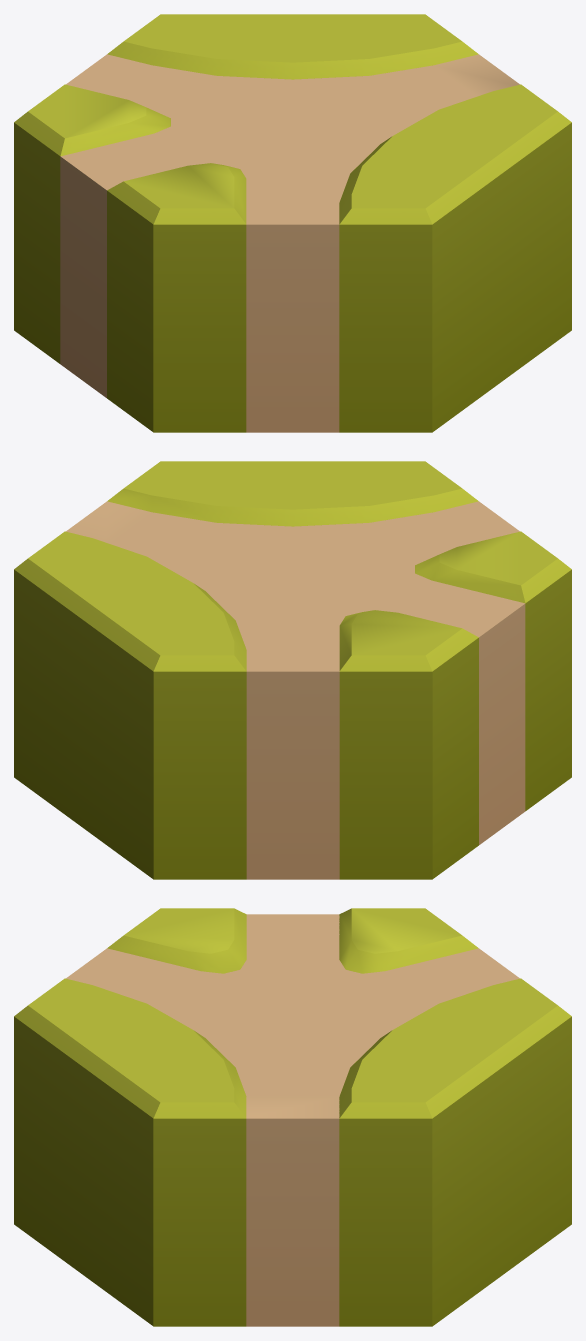
The model's file is hex_road_H.gltf.
The picture shows the model from 3 angles, top to bottom: view 1: azimuth 30°, elevation 25°; view 2: azimuth 150°, elevation 25°; view 3: azimuth 270°, elevation 25°; orthographic projection.
Parts seen in each view (by area): view 1: hex_road_H; view 2: hex_road_H; view 3: hex_road_H.
Part boxes in pixels (x1,y1,x2,y2): hex_road_H: (14, 14, 571, 432); hex_road_H: (14, 461, 571, 879); hex_road_H: (14, 908, 571, 1326).
Bounding box in the file's own units: 2 × 1 × 2.31.
1 material, 1 textured.
